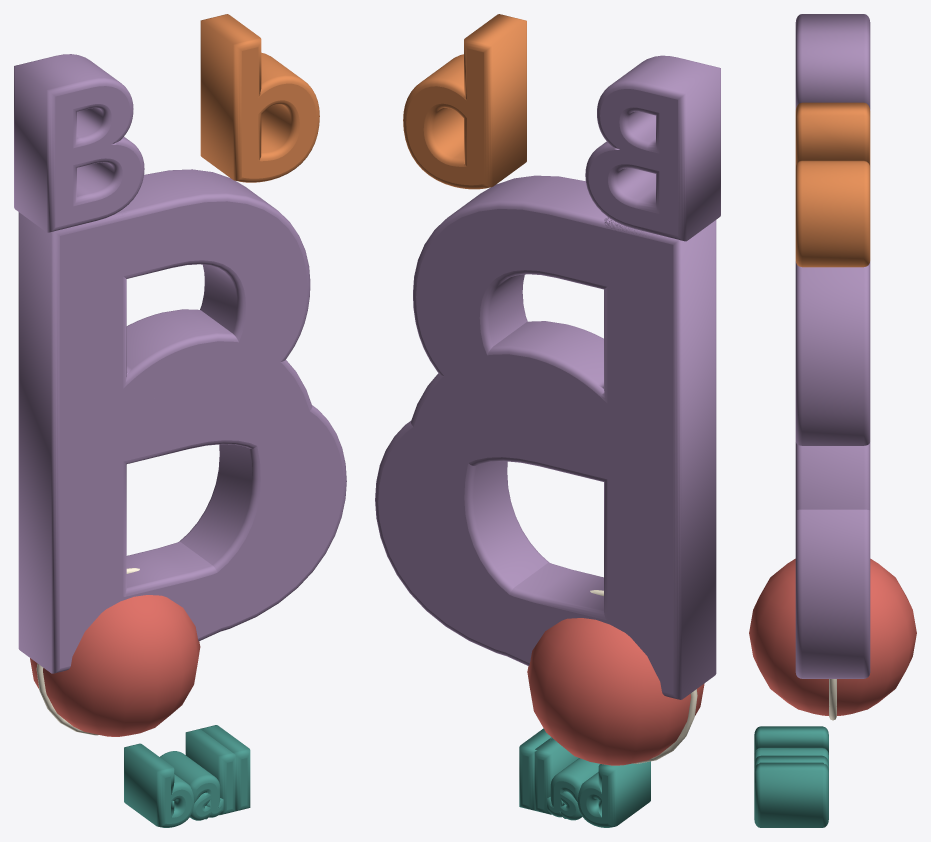
Rendered from letter-b.glb.
3 views of the same model, side by side, from view 1: azimuth 30°, elevation 25°; view 2: azimuth 150°, elevation 25°; view 3: azimuth 270°, elevation 25° (orthographic). The views are drawn at different scales.
Visible parts, largest first — view 1: letter solid, letter solid.001, uppercase solid, ball, lowercase solid, example word; view 2: letter solid, letter solid.001, uppercase solid, ball, lowercase solid, example word, ball seam; view 3: letter solid, lowercase solid, ball, example word, uppercase solid, letter solid.001.
Part boxes in pixels (<box>): letter solid: <box>18,169,346,673</box>; letter solid.001: <box>64,212,315,651</box>; uppercase solid: <box>14,54,144,232</box>; ball: <box>30,595,200,736</box>; lowercase solid: <box>200,14,319,182</box>; example word: <box>124,725,250,827</box>; letter solid: <box>375,175,716,699</box>; letter solid.001: <box>408,217,667,666</box>; uppercase solid: <box>585,55,720,241</box>; ball: <box>527,618,704,765</box>; lowercase solid: <box>403,14,526,189</box>; example word: <box>519,728,650,827</box>; ball seam: <box>590,590,697,763</box>; letter solid: <box>795,261,870,678</box>; lowercase solid: <box>795,102,870,267</box>; ball: <box>749,558,916,715</box>; example word: <box>754,726,828,827</box>; uppercase solid: <box>795,14,870,110</box>; letter solid.001: <box>795,442,870,510</box>.
Bounding box in the file's own units: 0.8148 × 1.94 × 0.406.
